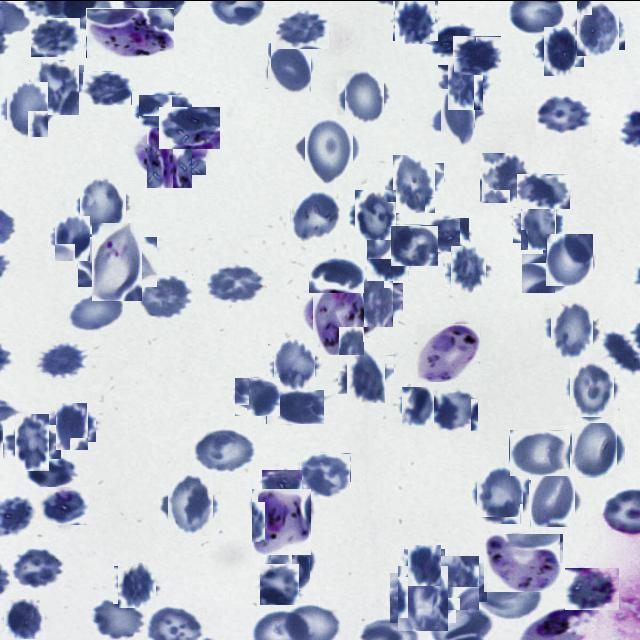difficult: (250, 489, 313, 552)
red blood cell: (300, 119, 358, 178), (394, 568, 452, 626), (568, 420, 622, 474), (164, 478, 218, 532), (478, 576, 544, 620), (509, 428, 570, 475), (193, 427, 256, 472), (289, 190, 342, 242), (474, 468, 526, 521), (526, 470, 578, 522), (77, 178, 129, 230), (159, 106, 220, 148), (389, 158, 440, 208), (548, 303, 598, 353), (544, 234, 594, 284), (480, 152, 530, 202), (32, 62, 82, 112), (138, 273, 193, 318), (568, 363, 618, 412), (536, 92, 592, 135), (573, 3, 622, 52), (204, 262, 264, 302), (4, 84, 52, 134), (10, 545, 64, 589), (91, 597, 146, 639), (340, 72, 388, 120), (342, 350, 390, 398), (270, 340, 318, 388), (300, 452, 351, 497), (266, 43, 313, 90), (352, 191, 399, 238), (436, 558, 483, 605), (521, 252, 576, 292), (67, 292, 123, 330), (434, 94, 480, 140), (9, 418, 55, 464), (35, 341, 90, 379), (442, 59, 488, 104), (276, 9, 329, 48), (390, 223, 438, 266), (309, 255, 364, 292), (266, 388, 324, 423), (268, 542, 313, 586), (431, 388, 478, 430), (38, 486, 89, 524), (354, 277, 398, 321), (31, 17, 80, 56), (516, 203, 560, 246), (453, 35, 501, 74), (517, 173, 570, 208), (138, 93, 192, 127), (234, 376, 280, 415), (26, 456, 78, 490), (367, 238, 409, 280), (448, 248, 490, 290), (116, 563, 158, 605), (394, 0, 436, 41), (82, 70, 132, 104), (4, 597, 45, 638), (52, 218, 93, 258), (260, 564, 299, 606), (52, 406, 92, 446), (540, 30, 580, 70), (431, 22, 476, 56), (406, 546, 444, 584), (428, 216, 469, 251), (262, 469, 302, 504), (400, 387, 436, 423)
ring: (85, 229, 150, 293), (565, 567, 619, 609)
trophozoite: (483, 532, 563, 591), (86, 7, 174, 57), (306, 284, 371, 348), (416, 322, 480, 381), (140, 121, 200, 181)
